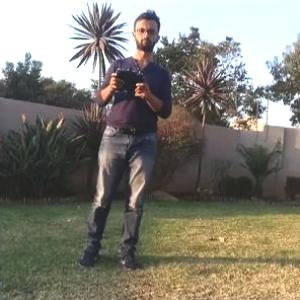follow: (75, 3, 177, 273)
